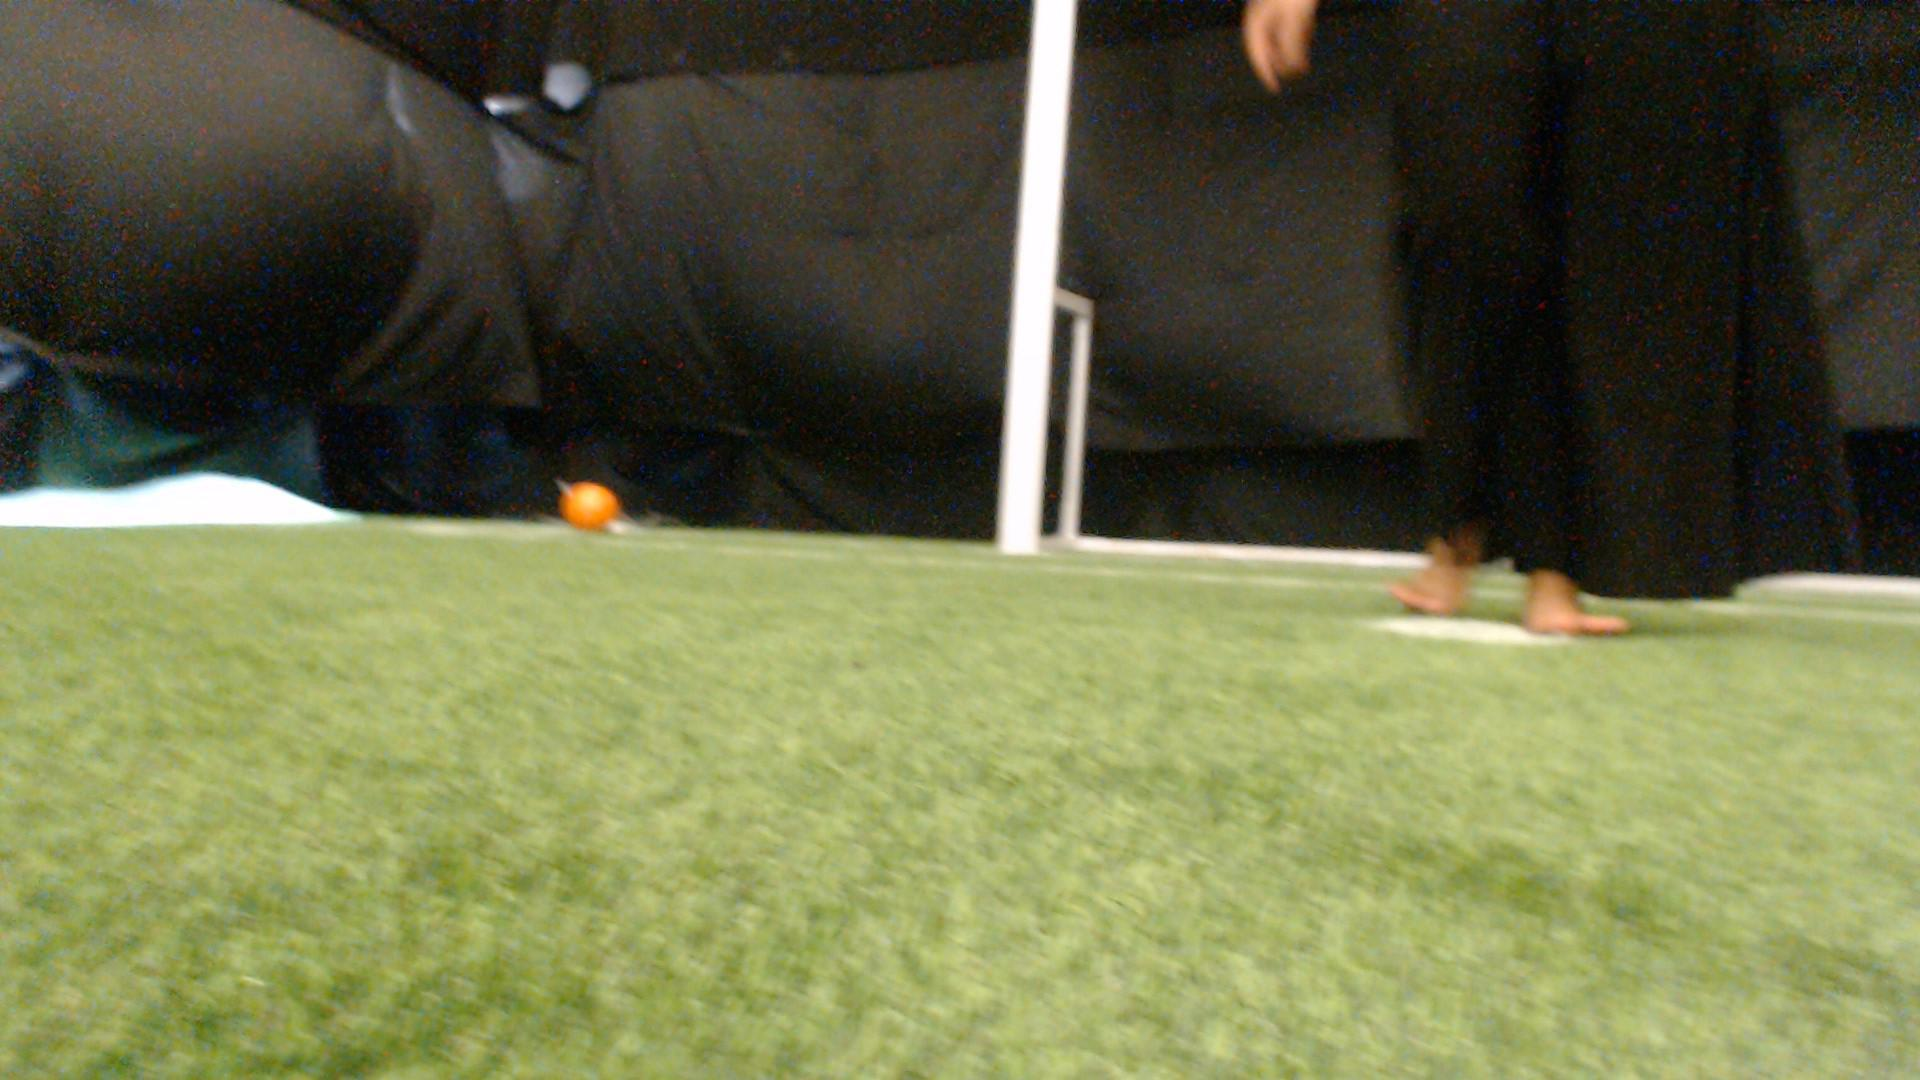bola: (549, 455, 632, 558)
